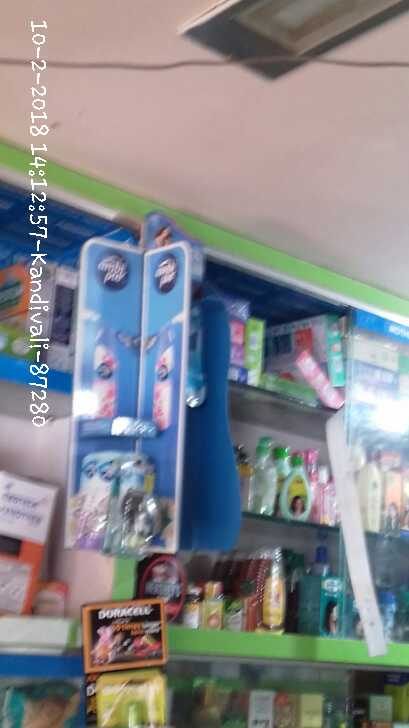home: (114, 464, 160, 555)
